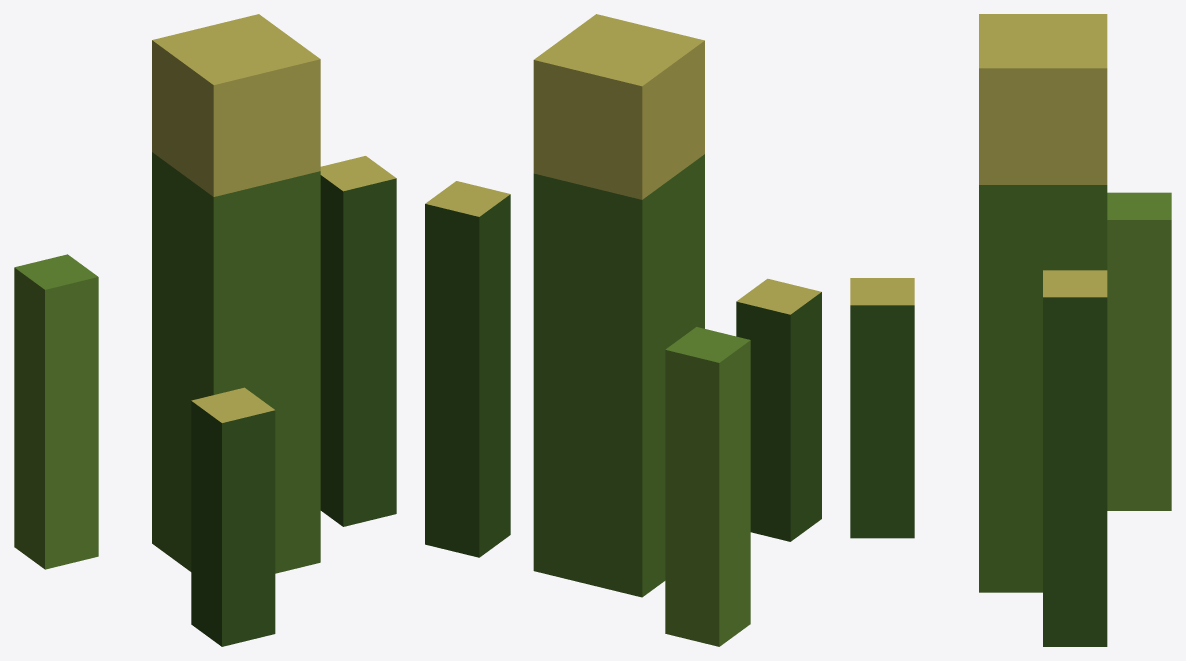
The model's file is prop_grass_tuft_voxel_c.fbx.
3 renders of one model, left to right at view 1: azimuth 30°, elevation 25°; view 2: azimuth 150°, elevation 25°; view 3: azimuth 270°, elevation 25°, orthographic. The views are drawn at different scales.
Parts seen in each view (by area): view 1: prop_grass_tuft_voxel_c; view 2: prop_grass_tuft_voxel_c; view 3: prop_grass_tuft_voxel_c.
Boxes of the visible parts, x1=… form: prop_grass_tuft_voxel_c: x1=14, y1=14, x2=396, y2=646; prop_grass_tuft_voxel_c: x1=425, y1=14, x2=821, y2=646; prop_grass_tuft_voxel_c: x1=850, y1=14, x2=1171, y2=646.
Size of the model in its own units: 0.375 by 0.5625 by 0.3125.
